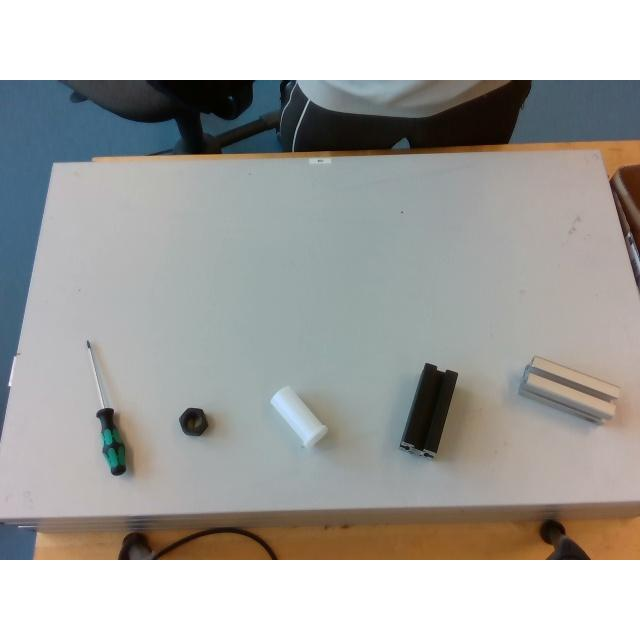M20: (180, 408, 208, 436)
S40_40_B: (399, 363, 456, 457)
S40_40_G: (518, 353, 620, 422)
Screwdriver: (84, 338, 126, 474)
Spacer: (270, 386, 326, 446)
